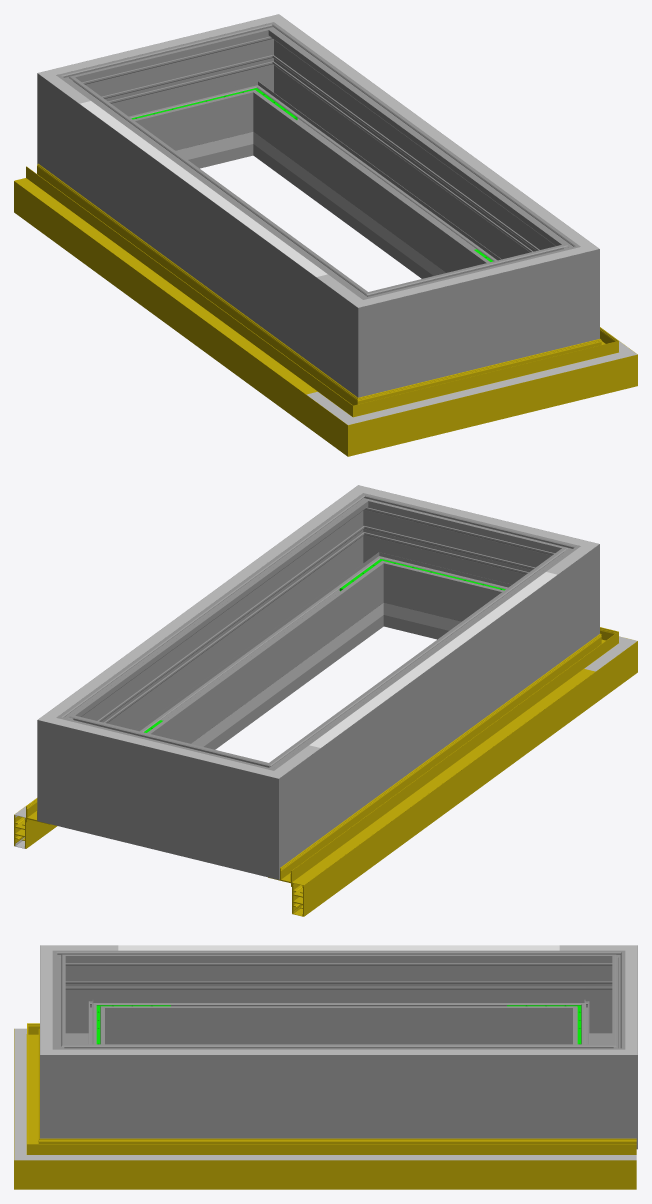
3 renders of one model, top to bottom at view 1: azimuth 30°, elevation 25°; view 2: azimuth 150°, elevation 25°; view 3: azimuth 270°, elevation 25°, orthographic. The views are drawn at different scales.
Parts seen in each view (by area): view 1: 3DGeom-297, 3DGeom-268, 3DGeom-85, 3DGeom-270, 3DGeom-276, 3DGeom-298, 3DGeom-290, 3DGeom-90, 3DGeom-284, 3DGeom-278, 3DGeom-86, 3DGeom-92 (+13 smaller); view 2: 3DGeom-297, 3DGeom-268, 3DGeom-85, 3DGeom-278, 3DGeom-276, 3DGeom-298, 3DGeom-284, 3DGeom-290, 3DGeom-270, 3DGeom-105, 3DGeom-303, 3DGeom-313 (+10 smaller); view 3: 3DGeom-268, 3DGeom-297, 3DGeom-97, 3DGeom-284, 3DGeom-290, 3DGeom-270, 3DGeom-278, 3DGeom-92, 3DGeom-98, 3DGeom-303, 3DGeom-313, 3DGeom-276 (+12 smaller).
Part boxes in pixels (box(x1,y1,x2,y2)): 3DGeom-297: box(260, 46, 556, 278); 3DGeom-268: box(79, 98, 339, 366); 3DGeom-85: box(14, 163, 329, 425); 3DGeom-270: box(316, 271, 430, 397); 3DGeom-276: box(112, 32, 241, 168); 3DGeom-298: box(417, 256, 527, 379); 3DGeom-290: box(514, 219, 599, 356); 3DGeom-90: box(407, 350, 565, 438); 3DGeom-284: box(206, 14, 318, 160); 3DGeom-278: box(37, 55, 144, 192); 3DGeom-86: box(306, 377, 420, 456); 3DGeom-92: box(552, 327, 637, 403); 3DGeom-297: box(80, 516, 376, 749); 3DGeom-268: box(297, 569, 557, 837); 3DGeom-85: box(268, 654, 595, 916); 3DGeom-278: box(206, 742, 320, 879); 3DGeom-276: box(110, 727, 219, 862); 3DGeom-298: box(396, 504, 526, 639); 3DGeom-284: box(37, 691, 123, 838); 3DGeom-290: box(318, 485, 429, 631); 3DGeom-270: box(492, 526, 599, 663); 3DGeom-105: box(292, 669, 595, 887); 3DGeom-303: box(80, 516, 327, 691); 3DGeom-313: box(309, 572, 556, 747); 3DGeom-268: box(118, 950, 559, 1044); 3DGeom-297: box(118, 1044, 559, 1138); 3DGeom-97: box(92, 1138, 636, 1189); 3DGeom-284: box(560, 1022, 637, 1149); 3DGeom-290: box(40, 1022, 117, 1138); 3DGeom-270: box(40, 945, 117, 1044); 3DGeom-278: box(560, 945, 637, 1044); 3DGeom-92: box(14, 1117, 91, 1189); 3DGeom-98: box(92, 1155, 636, 1160); 3DGeom-303: box(118, 1049, 559, 1054); 3DGeom-313: box(118, 945, 559, 950); 3DGeom-276: box(573, 978, 637, 1044).
Size of the model in its own units: 0.6096 by 0.2667 by 1.22.
